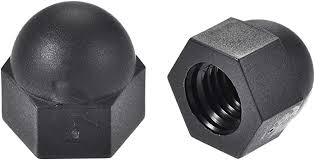Thread: (169, 52, 263, 143)
